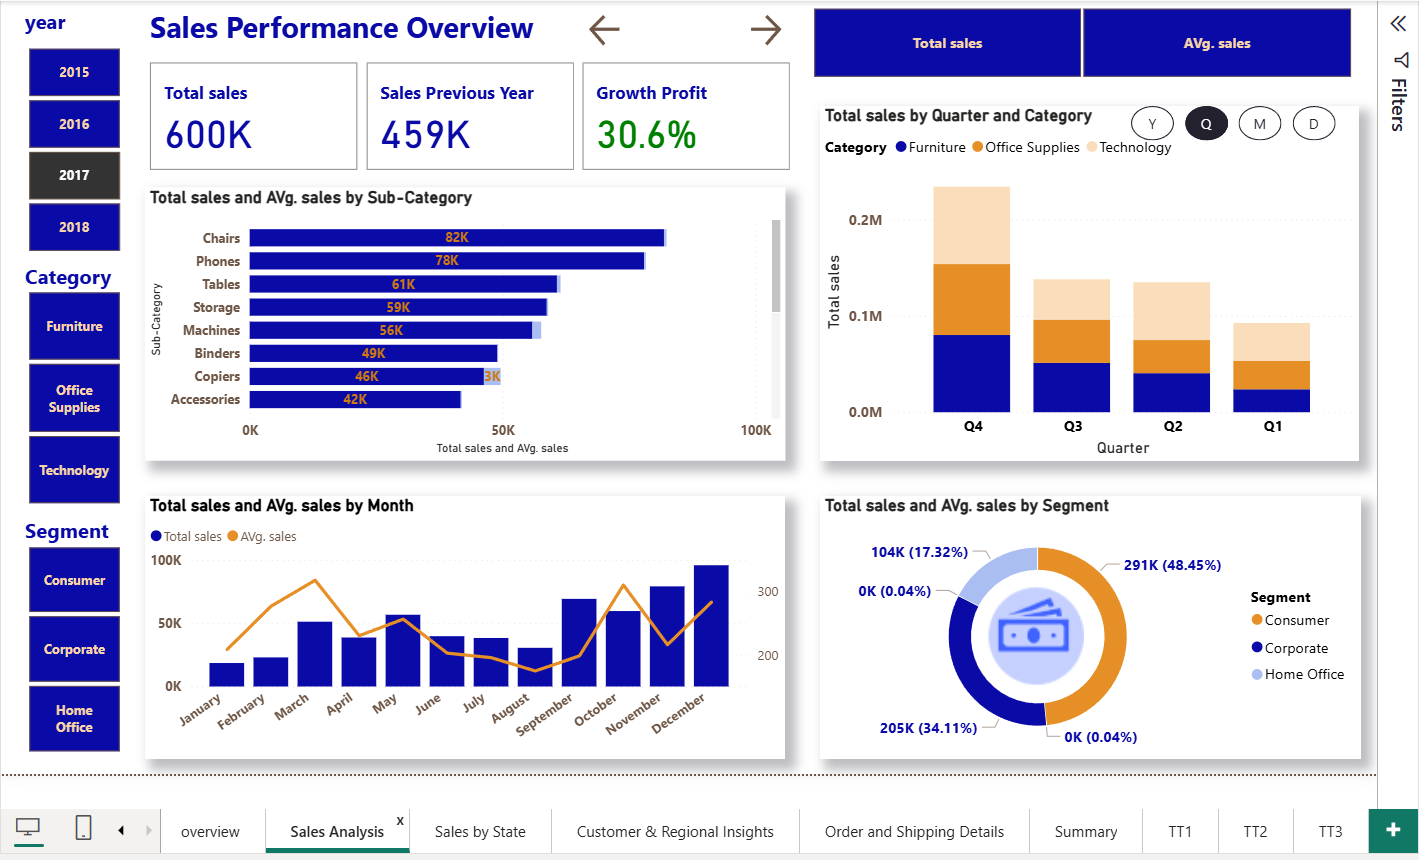

The page's visual inventory and layout, read from the dashboard file:
{"tool":"powerbi","page":{"name":"Sales Analysis","canvas":[1280,720],"ordinal":1},"visuals":[{"type":"columnChart","fields":{"Y":["DAX measures.Total sales"],"Category":["Calendar.Date Hierarchy.Year","Calendar.Date Hierarchy.Quarter","Calendar.Date Hierarchy.Month","Calendar.Date Hierarchy.DayName"],"Series":["Dim_Product.Category"]},"box":[761.5,97.5,501.5,330.6],"z":0},{"type":"slicer","fields":{"Values":["Parameter1.Parameter1"]},"box":[730.4,0,549.6,77.7],"z":1000},{"type":"bookmarkNavigator","box":[1051.1,97.5,193.6,32.5],"z":2000},{"type":"barChart","fields":{"Y":["DAX measures.Total sales","DAX measures.AVg. sales"],"Category":["Dim_Product.Sub-Category"]},"box":[134.2,173.8,596.2,254.3],"z":3000},{"type":"lineClusteredColumnComboChart","fields":{"Y":["DAX measures.Total sales"],"Category":["Calendar.Date.Variation.Date Hierarchy.Month"],"Y2":["DAX measures.AVg. sales"]},"box":[134.2,460.6,596.2,244.4],"z":4000},{"type":"donutChart","fields":{"Y":["DAX measures.Total sales","DAX measures.AVg. sales"],"Category":["Dim_Customer.Segment"]},"box":[761.5,460.6,503,244.4],"z":5000},{"type":"slicer","fields":{"Values":["Dim_Product.Category"]},"box":[0,264.2,134.2,210.5],"z":6000},{"type":"slicer","title":"segment","fields":{"Values":["Dim_Customer.Segment"]},"box":[0,501.5,134.2,203.4],"z":7000},{"type":"slicer","title":"Years","fields":{"Values":["Calendar.Date Hierarchy.Year"]},"box":[0,36.7,134.2,202],"z":8000},{"type":"textbox","box":[17,1.4,189.3,36.7],"z":9000},{"type":"textbox","box":[17,238.8,211.9,42.4],"z":10000},{"type":"textbox","box":[17,474.7,128.6,38.1],"z":11000},{"type":"cardVisual","fields":{"Data":["DAX measures.Total sales","DAX measures.Sales Previous Year","DAX measures.Growth Profit"]},"box":[134.2,52.3,607.5,110.2],"z":12000},{"type":"textbox","box":[134.2,1.4,375.8,52.3],"z":13000},{"type":"actionButton","box":[542.5,8.5,67.8,38.1],"z":14000},{"type":"actionButton","box":[692.3,8.5,100.3,38.1],"z":15000},{"type":"image","box":[856.8,541.1,211.6,100.6],"z":16000}]}

Visuals, with their boxes on the page's 1280x720 design canvas (x1, y1, x2, y2). These are canvas units, not pixel positions in the 1419x860 screenshot, which may show the page scaled, cropped or inside an application window:
columnChart - DAX measures.Total sales x Calendar.Date Hierarchy.Year: <region>762, 98, 1263, 428</region>
slicer - Parameter1.Parameter1: <region>730, 0, 1280, 78</region>
bookmarkNavigator: <region>1051, 98, 1245, 130</region>
barChart - DAX measures.Total sales x DAX measures.AVg. sales: <region>134, 174, 730, 428</region>
lineClusteredColumnComboChart - DAX measures.Total sales x Calendar.Date.Variation.Date Hierarchy.Month: <region>134, 461, 730, 705</region>
donutChart - DAX measures.Total sales x DAX measures.AVg. sales: <region>762, 461, 1264, 705</region>
slicer - Dim_Product.Category: <region>0, 264, 134, 475</region>
"segment" slicer: <region>0, 502, 134, 705</region>
"Years" slicer: <region>0, 37, 134, 239</region>
textbox: <region>17, 1, 206, 38</region>
textbox: <region>17, 239, 229, 281</region>
textbox: <region>17, 475, 146, 513</region>
cardVisual - DAX measures.Total sales x DAX measures.Sales Previous Year: <region>134, 52, 742, 162</region>
textbox: <region>134, 1, 510, 54</region>
actionButton: <region>542, 8, 610, 47</region>
actionButton: <region>692, 8, 793, 47</region>
image: <region>857, 541, 1068, 642</region>
